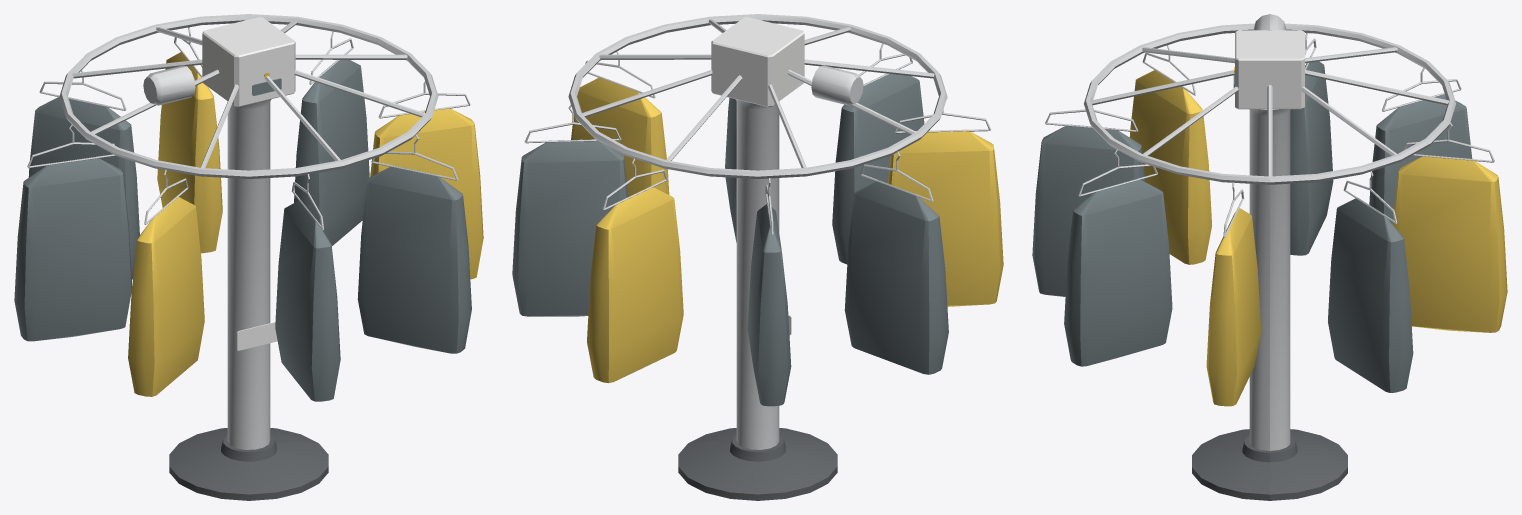
Rendered from laundrette-and-cleaning-garment-carousel-0d8eedc3__25559.glb.
3 renders of one model, left to right at view 1: azimuth 30°, elevation 25°; view 2: azimuth 150°, elevation 25°; view 3: azimuth 270°, elevation 25°, orthographic.
Visible parts, largest first — view 1: garment-carousel; view 2: garment-carousel; view 3: garment-carousel.
Boxes of the visible parts, box(x1,y1,x2,y2) form: garment-carousel: box(14, 14, 483, 500); garment-carousel: box(512, 14, 1003, 500); garment-carousel: box(1032, 14, 1507, 500).
Size of the model in its own units: 2.04 by 2 by 2.04.
